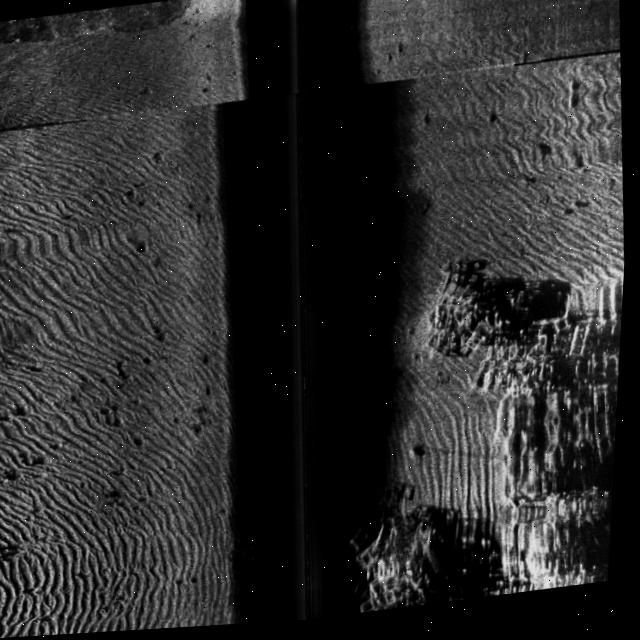artificial reef: (420, 263, 562, 413), (335, 470, 475, 620), (242, 472, 299, 600)
